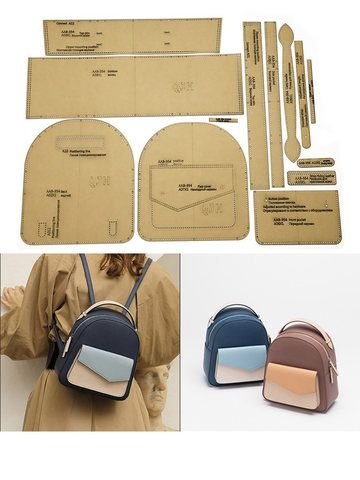cuero: (46, 252, 339, 415)
